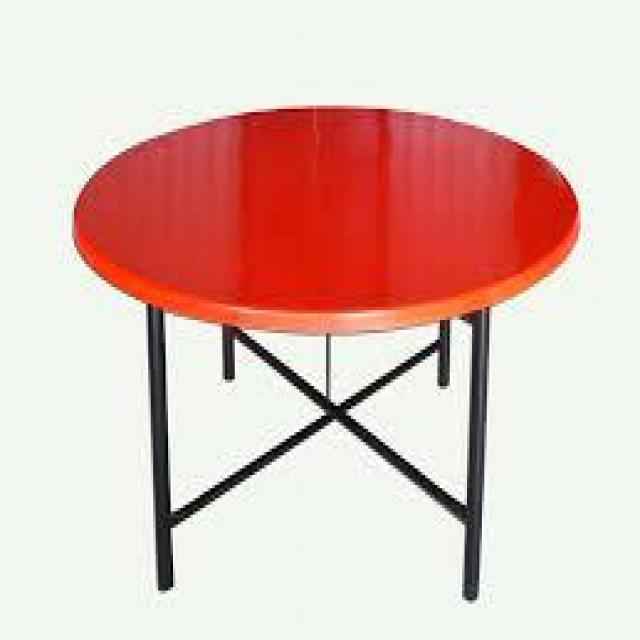desk: (57, 71, 595, 618)
